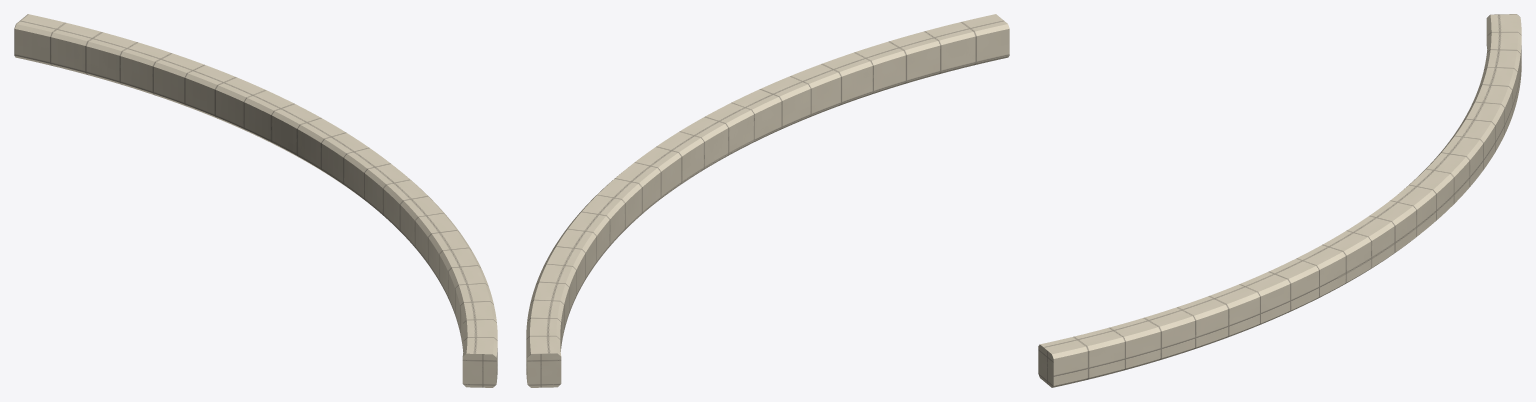
File: ENV_Plaza_Border_Body_Arc66.obj
3 views of the same model, side by side, from view 1: azimuth 30°, elevation 25°; view 2: azimuth 150°, elevation 25°; view 3: azimuth 330°, elevation 25° (orthographic).
Parts seen in each view (by area): view 1: ENV_Plaza_Border_Body_Arc66; view 2: ENV_Plaza_Border_Body_Arc66; view 3: ENV_Plaza_Border_Body_Arc66.
Boxes of the visible parts, bbox=[...] form: ENV_Plaza_Border_Body_Arc66: bbox=[14, 14, 497, 387]; ENV_Plaza_Border_Body_Arc66: bbox=[526, 14, 1009, 387]; ENV_Plaza_Border_Body_Arc66: bbox=[1038, 14, 1521, 387].
Size of the model in its own units: 1.57 by 0.35 by 8.8.
1 material, 1 textured.
